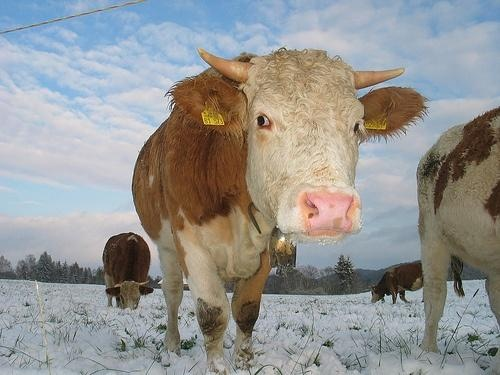cow: (158, 43, 436, 372), (416, 100, 500, 364), (100, 231, 154, 319), (367, 252, 440, 315)
